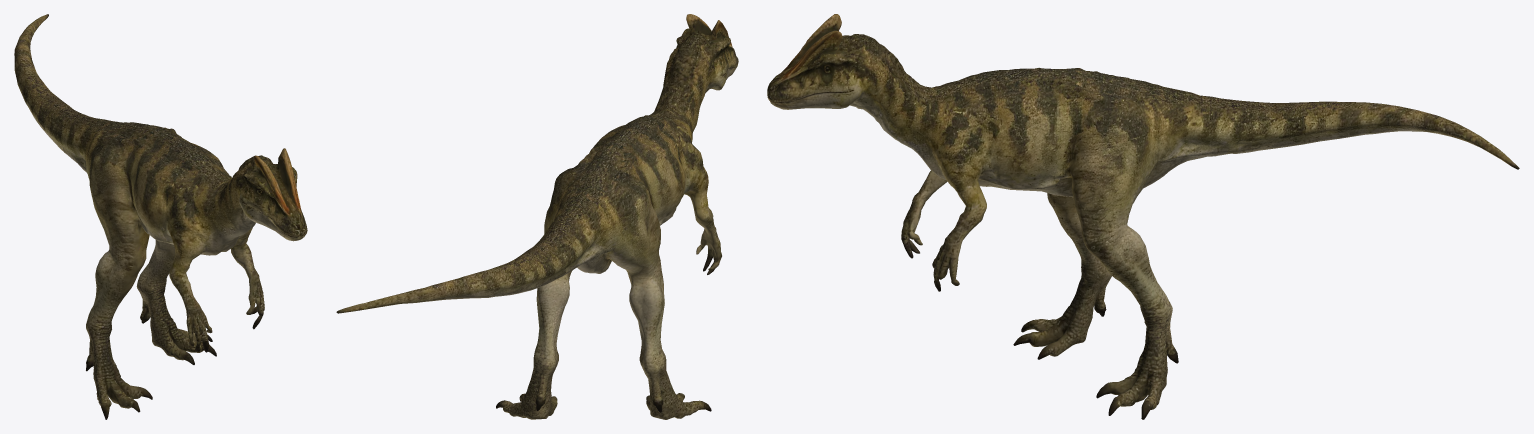
The model's file is dilophosaurus.glb.
3 views of the same model, side by side, from view 1: azimuth 30°, elevation 25°; view 2: azimuth 150°, elevation 25°; view 3: azimuth 270°, elevation 25° (orthographic). The views are drawn at different scales.
Visible parts, largest first — view 1: dino; view 2: dino; view 3: dino.
Part boxes in pixels (x1,y1,x2,y2): dino: (14,14,307,419); dino: (336,14,738,419); dino: (767,14,1519,419).
Bounding box in the file's own units: 2 × 3.68 × 7.
Materials: 1 (1 with a texture image).
